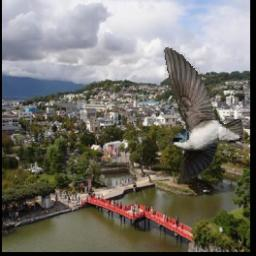Swallow: (164, 46, 244, 184)
